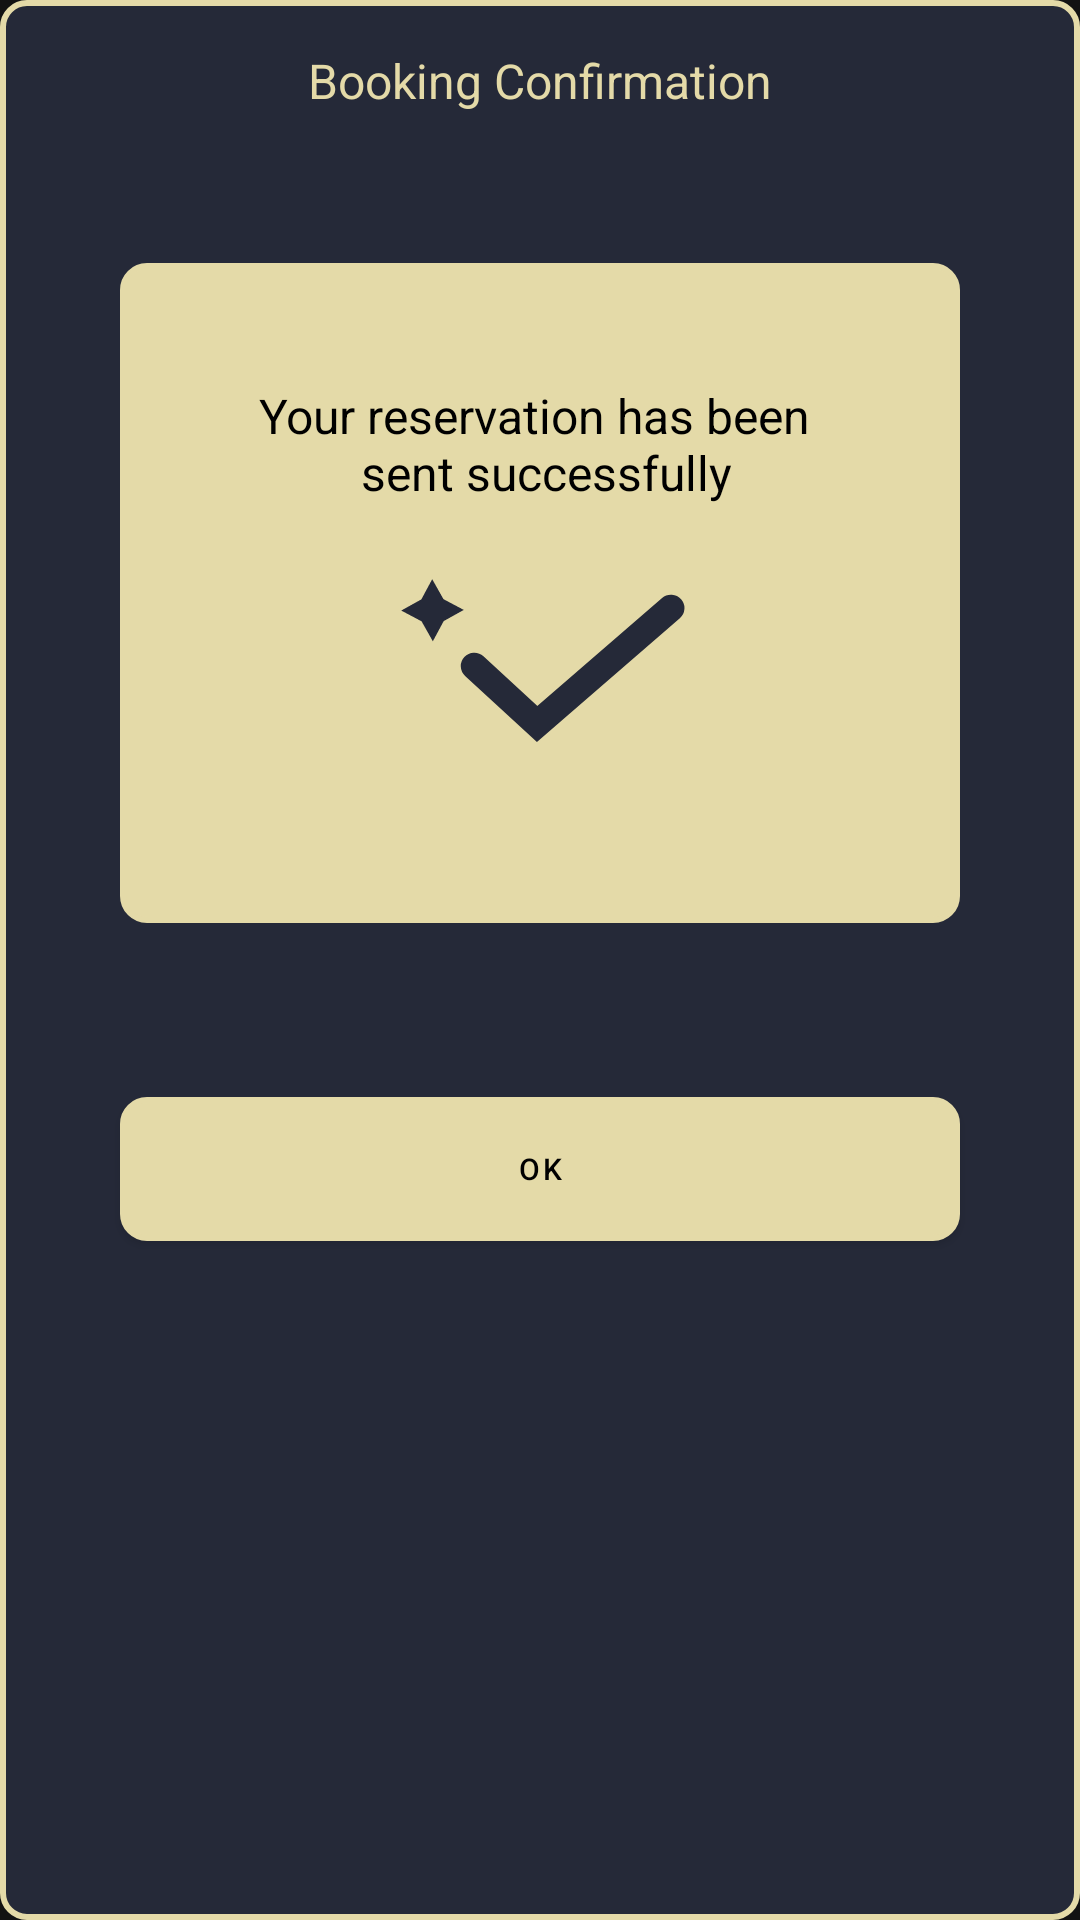

Where to tap for icons on this 1080px x 1920px app screen, as (x=x, y=y):
tick: (x=543, y=660)
